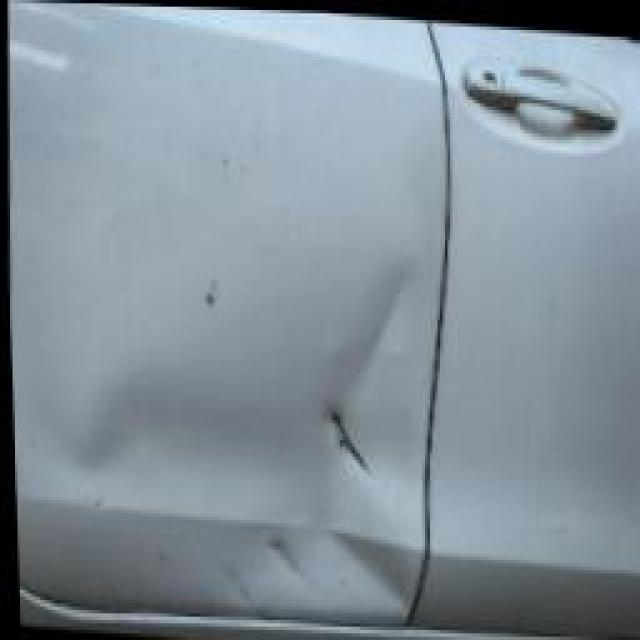Door: (22, 0, 423, 619)
